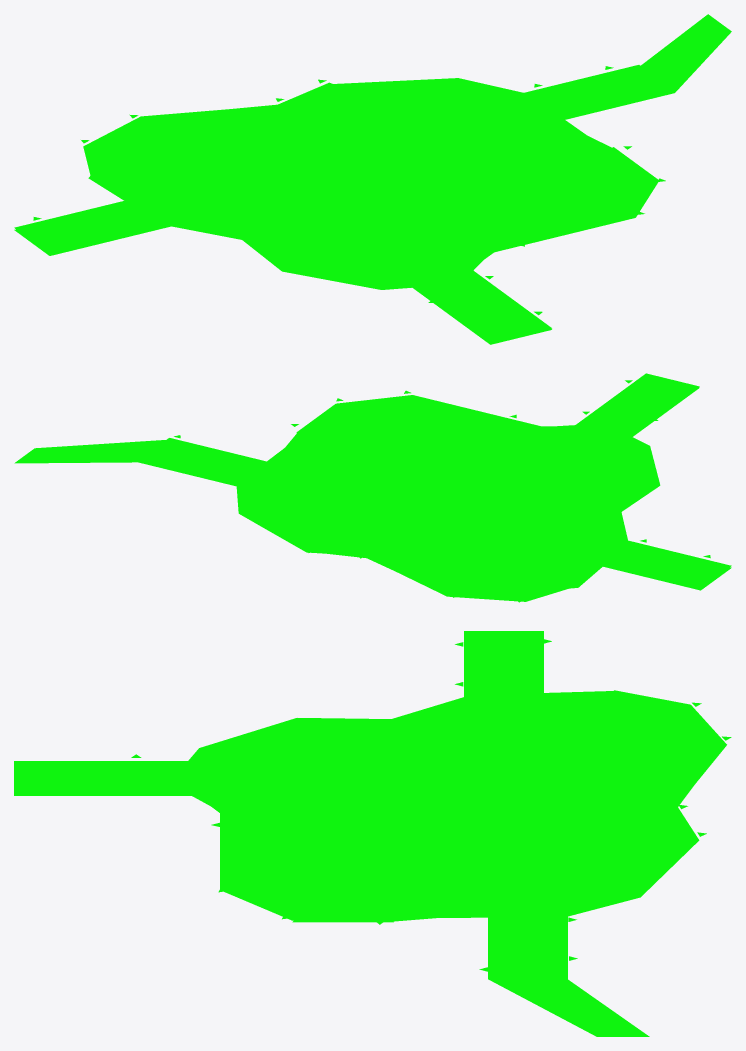
File: s02b_td1-floor.glb
The picture shows the model from 3 angles, top to bottom: view 1: azimuth 30°, elevation 25°; view 2: azimuth 150°, elevation 25°; view 3: azimuth 270°, elevation 25°; orthographic projection. The views are drawn at different scales.
Visible parts, largest first — view 1: collision_floor-colonly; view 2: collision_floor-colonly; view 3: collision_floor-colonly.
Boxes of the visible parts, x1,y1,x2,y2 form: collision_floor-colonly: (14,14,731,344); collision_floor-colonly: (14,373,731,602); collision_floor-colonly: (14,631,731,1036).
Size of the model in its own units: 71.78 by 0.4219 by 54.01.
